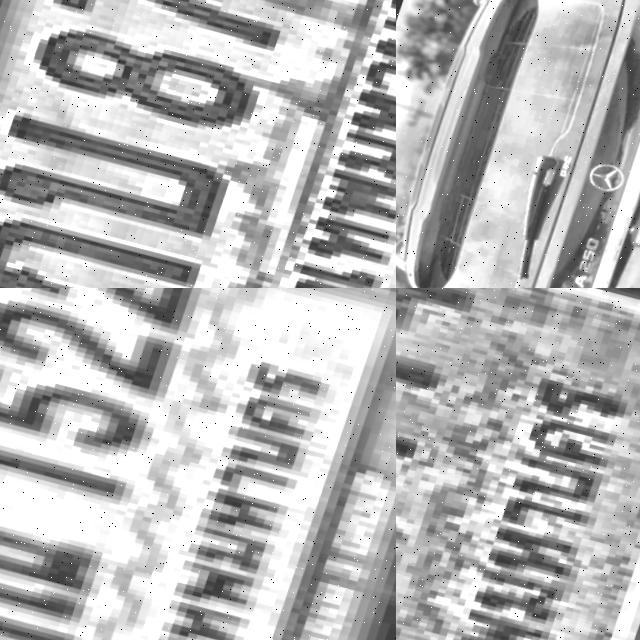license-plate: (0, 288, 396, 640), (0, 0, 396, 288), (396, 288, 640, 640)
